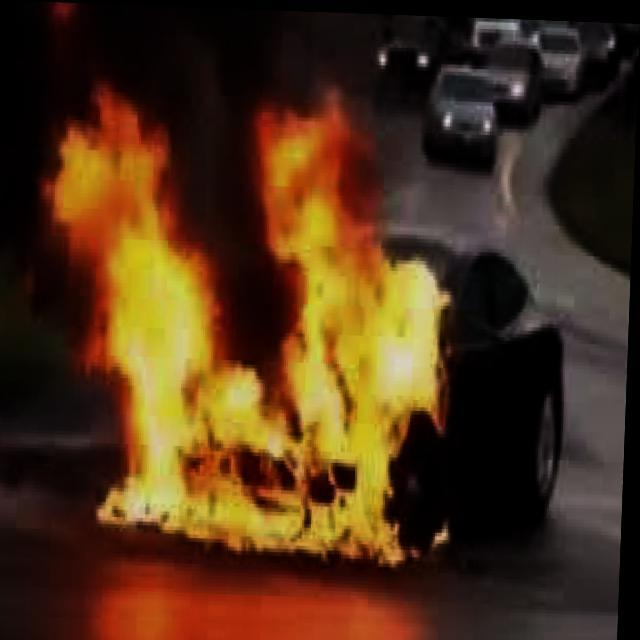Fire: (26, 59, 302, 580), (233, 80, 463, 536)
